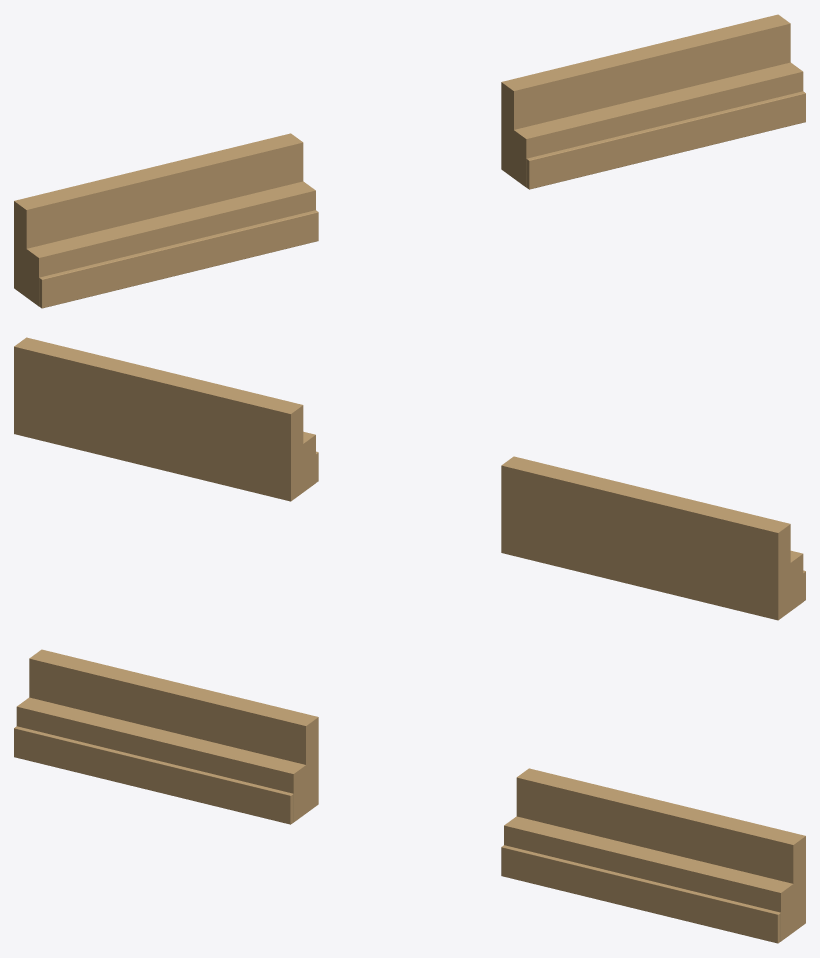
The model's file is FarStands_Wall.fbx.
3 renders of one model, top to bottom at view 1: azimuth 30°, elevation 25°; view 2: azimuth 150°, elevation 25°; view 3: azimuth 330°, elevation 25°, orthographic.
Parts seen in each view (by area): view 1: FarStandFront-1.001; view 2: FarStandFront-1.001; view 3: FarStandFront-1.001.
Boxes of the visible parts, <box> form: FarStandFront-1.001: <box>14,14,805,308</box>; FarStandFront-1.001: <box>14,337,805,620</box>; FarStandFront-1.001: <box>14,649,805,943</box>.
Bounding box in the file's own units: 24700 × 2700 × 1560.
